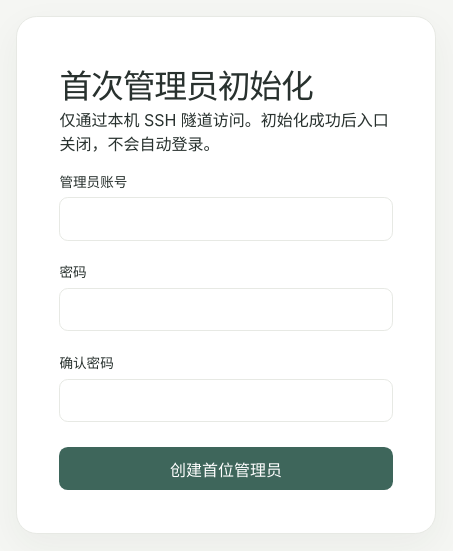
Test case: submits only after explicit user action, clears passwords and grants no session
Type "fixture-admin" into the field labelled "管理员账号" at (226, 219), box [59,197,393,241]
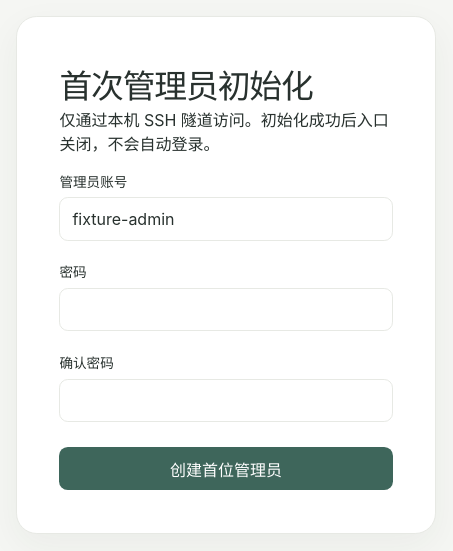
Type "frontend-fixture-only-password-2037" into the password field labelled "密码" at (226, 310), box [59,288,393,331]
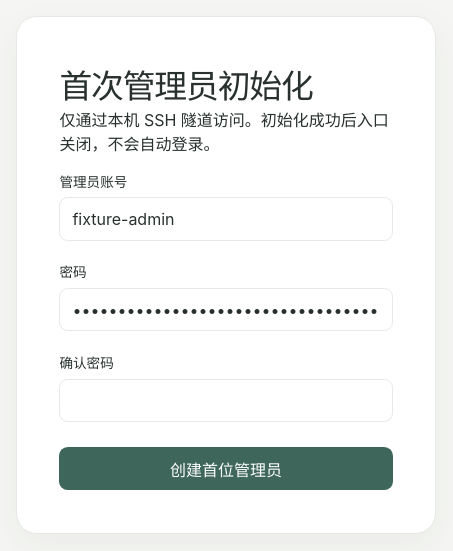
Type "frontend-fixture-only-password-2037" into the password field labelled "确认密码" at (226, 400), box [59,379,393,422]
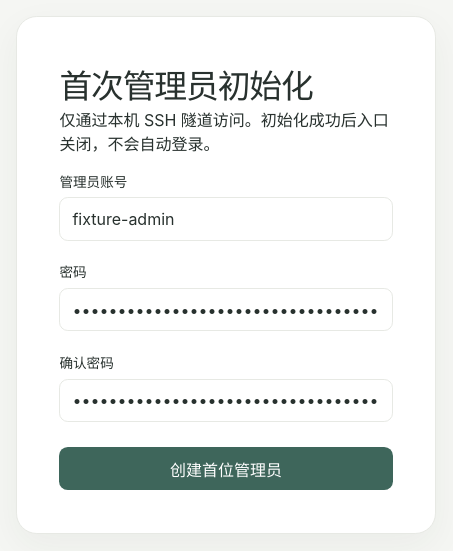
Click the button "创建首位管理员" at (226, 468), box [59,447,393,490]
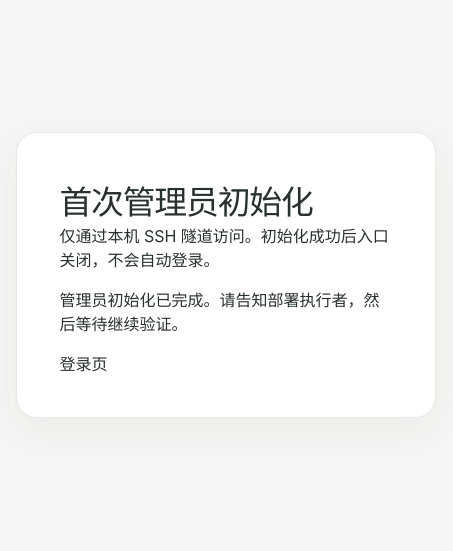
Expected: the message shows "管理员初始化已完成", [59,290,379,334]
Expected: the label labelled "密码" is gone
